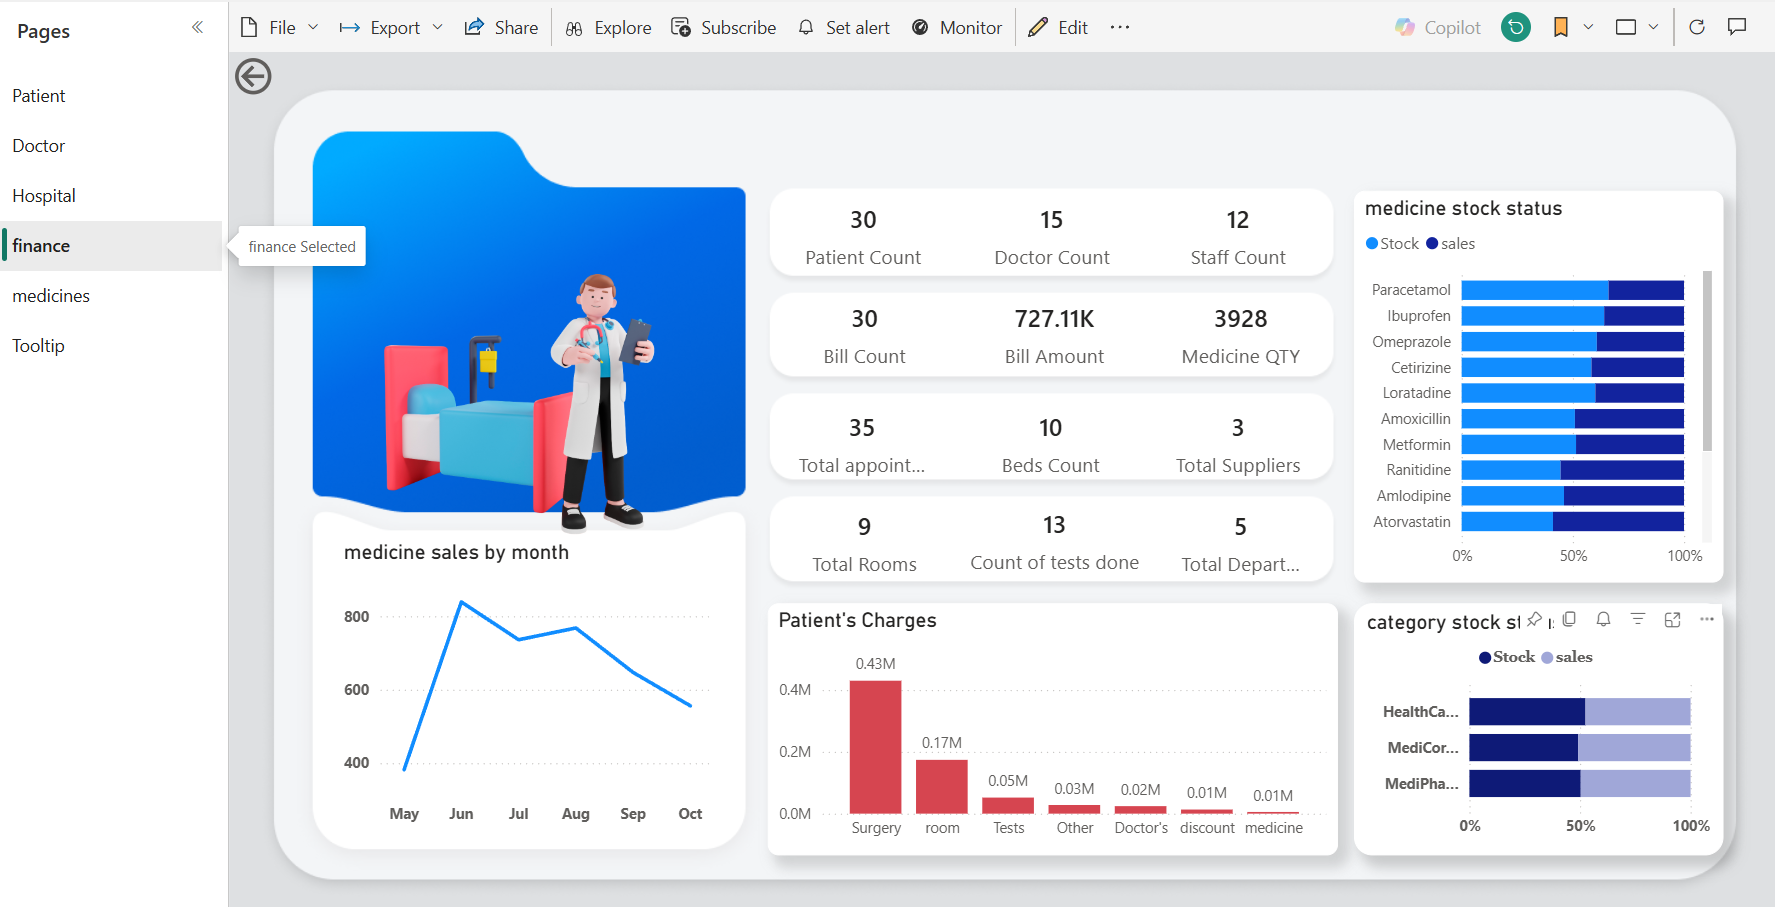

Layout of this report page (visuals, bound fields, positions):
{"tool":"powerbi","page":{"name":"finance","canvas":[1280,720],"ordinal":3},"visuals":[{"type":"image","box":[103.3,113.3,280,323.3],"z":0},{"type":"lineChart","title":"medicine sales by month","fields":{"Category":["Calendar.Month"],"Y":["_measures.total_med_sale_qty"]},"box":[90,401.7,315,245],"z":1000},{"type":"clusteredColumnChart","title":"Patient''s Charges","fields":{"Category":["bill.chargestype"],"Y":["Sum(bill.Value)"]},"box":[444.4,454.5,470.3,207.8],"z":2000},{"type":"hundredPercentStackedBarChart","title":"medicine stock status","fields":{"Category":["medical_stock_infoo.name"],"Y":["_measures.TOTAL_STOCK","_measures.total_med_sale_qty"]},"box":[927.7,114,304.4,323.2],"z":3000},{"type":"hundredPercentStackedBarChart","title":"category stock status","fields":{"Category":["medical_stock_infoo.supplier_name"],"Y":["_measures.TOTAL_STOCK","_measures.total_med_sale_qty"]},"box":[927.7,454.5,304.4,207.8],"z":4000},{"type":"card","fields":{"Values":["_measures.patient_count"]},"box":[464.6,114,116.9,72.1],"z":5000},{"type":"card","fields":{"Values":["Count(appointment.doctor_id)"]},"box":[620.4,114,116.9,72.1],"z":6000},{"type":"card","fields":{"Values":["Min(patient_detailss.department_total_staff)"]},"box":[774.8,114,116.9,72.1],"z":7000},{"type":"card","fields":{"Values":["Count(bill.bill_id)"]},"box":[466.5,195.5,116.9,72.1],"z":8000},{"type":"card","fields":{"Values":["_measures.total_bill_amount"]},"box":[622.3,195.5,116.9,72.1],"z":9000},{"type":"card","fields":{"Values":["_measures.total_med_sale_qty"]},"box":[776.7,195.5,116.9,72.1],"z":10000},{"type":"card","fields":{"Values":["Count(appointment.appointment_id)"]},"box":[464.2,285.6,116.9,72.1],"z":11000},{"type":"card","fields":{"Values":["Count(patient_detailss.beds_bed_id)"]},"box":[620,285.6,116.9,72.1],"z":12000},{"type":"card","fields":{"Values":["Count(medical_stock_infoo.supplier_id)"]},"box":[774.4,285.6,116.9,72.1],"z":13000},{"type":"card","fields":{"Values":["Count(patient_detailss.room_room_id)"]},"box":[466.1,367.1,116.9,72.1],"z":14000},{"type":"card","fields":{"Values":["Count(patient_tests (2).test_id)"]},"box":[604.5,366.5,154.4,72.1],"z":15000},{"type":"card","fields":{"Values":["Count(patient_detailss.department_department_id)"]},"box":[776.3,367.1,116.9,72.1],"z":16000},{"type":"actionButton","box":[0,0,100,40],"z":17000}]}

Visuals, with their boxes on the page's 1280x720 design canvas (x1, y1, x2, y2). These are canvas units, not pixel positions in the 1775x907 screenshot, which may show the page scaled, cropped or inside an application window:
image: [x1=103, y1=113, x2=383, y2=437]
"medicine sales by month" lineChart: [x1=90, y1=402, x2=405, y2=647]
"Patient''s Charges" clusteredColumnChart: [x1=444, y1=454, x2=915, y2=662]
"medicine stock status" hundredPercentStackedBarChart: [x1=928, y1=114, x2=1232, y2=437]
"category stock status" hundredPercentStackedBarChart: [x1=928, y1=454, x2=1232, y2=662]
card - _measures.patient_count: [x1=465, y1=114, x2=582, y2=186]
card - Count(appointment.doctor_id): [x1=620, y1=114, x2=737, y2=186]
card - Min(patient_detailss.department_total_staff): [x1=775, y1=114, x2=892, y2=186]
card - Count(bill.bill_id): [x1=466, y1=196, x2=583, y2=268]
card - _measures.total_bill_amount: [x1=622, y1=196, x2=739, y2=268]
card - _measures.total_med_sale_qty: [x1=777, y1=196, x2=894, y2=268]
card - Count(appointment.appointment_id): [x1=464, y1=286, x2=581, y2=358]
card - Count(patient_detailss.beds_bed_id): [x1=620, y1=286, x2=737, y2=358]
card - Count(medical_stock_infoo.supplier_id): [x1=774, y1=286, x2=891, y2=358]
card - Count(patient_detailss.room_room_id): [x1=466, y1=367, x2=583, y2=439]
card - Count(patient_tests (2).test_id): [x1=604, y1=366, x2=759, y2=439]
card - Count(patient_detailss.department_department_id): [x1=776, y1=367, x2=893, y2=439]
actionButton: [x1=0, y1=0, x2=100, y2=40]
